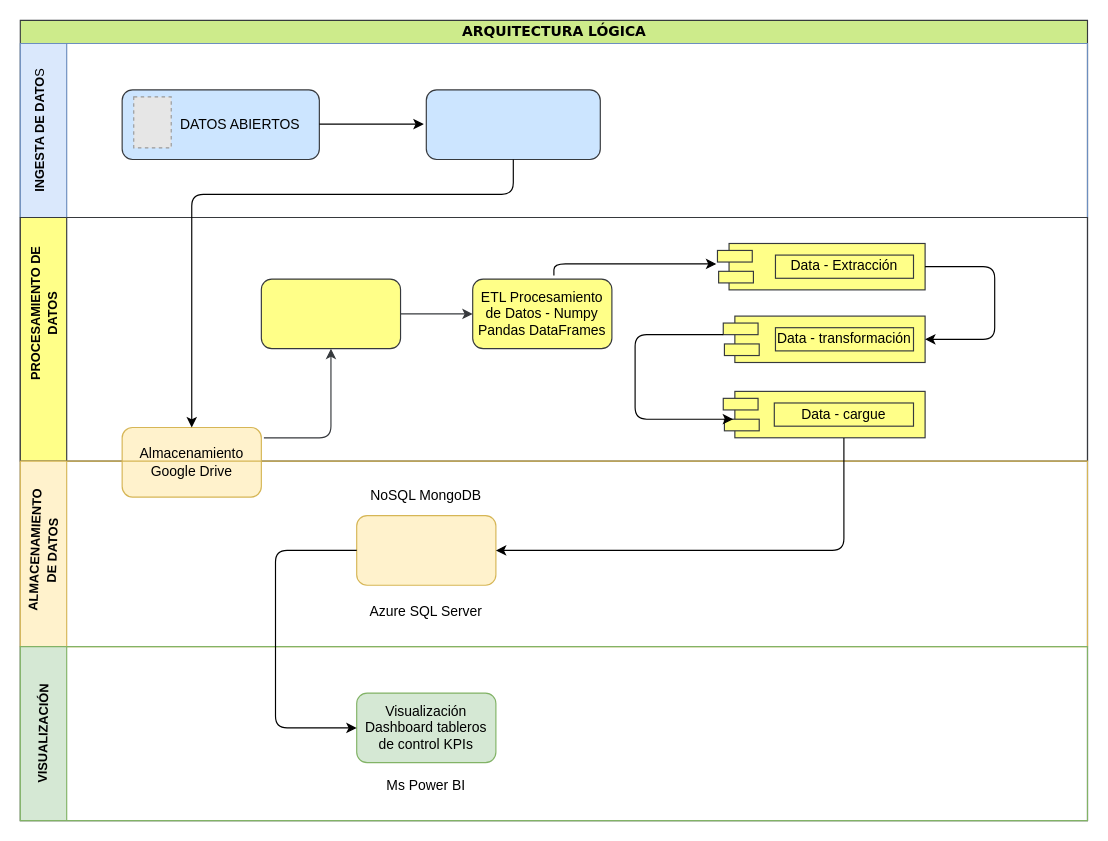
The diagram is 1108 pixels wide and 841 high, and some of its shapes have lost their labels. Grey dashed boxes stand in for pictures. The shapes that lost their labels are listed below. From the top down, each one's centre as x and y in pixels, then its label:
(x=512, y=124): Dataset - Hurtos por modalidades.CSV
(x=330, y=313): Ingestión de datos en Google Colabs - Python
(x=426, y=549): Almacenamiento
